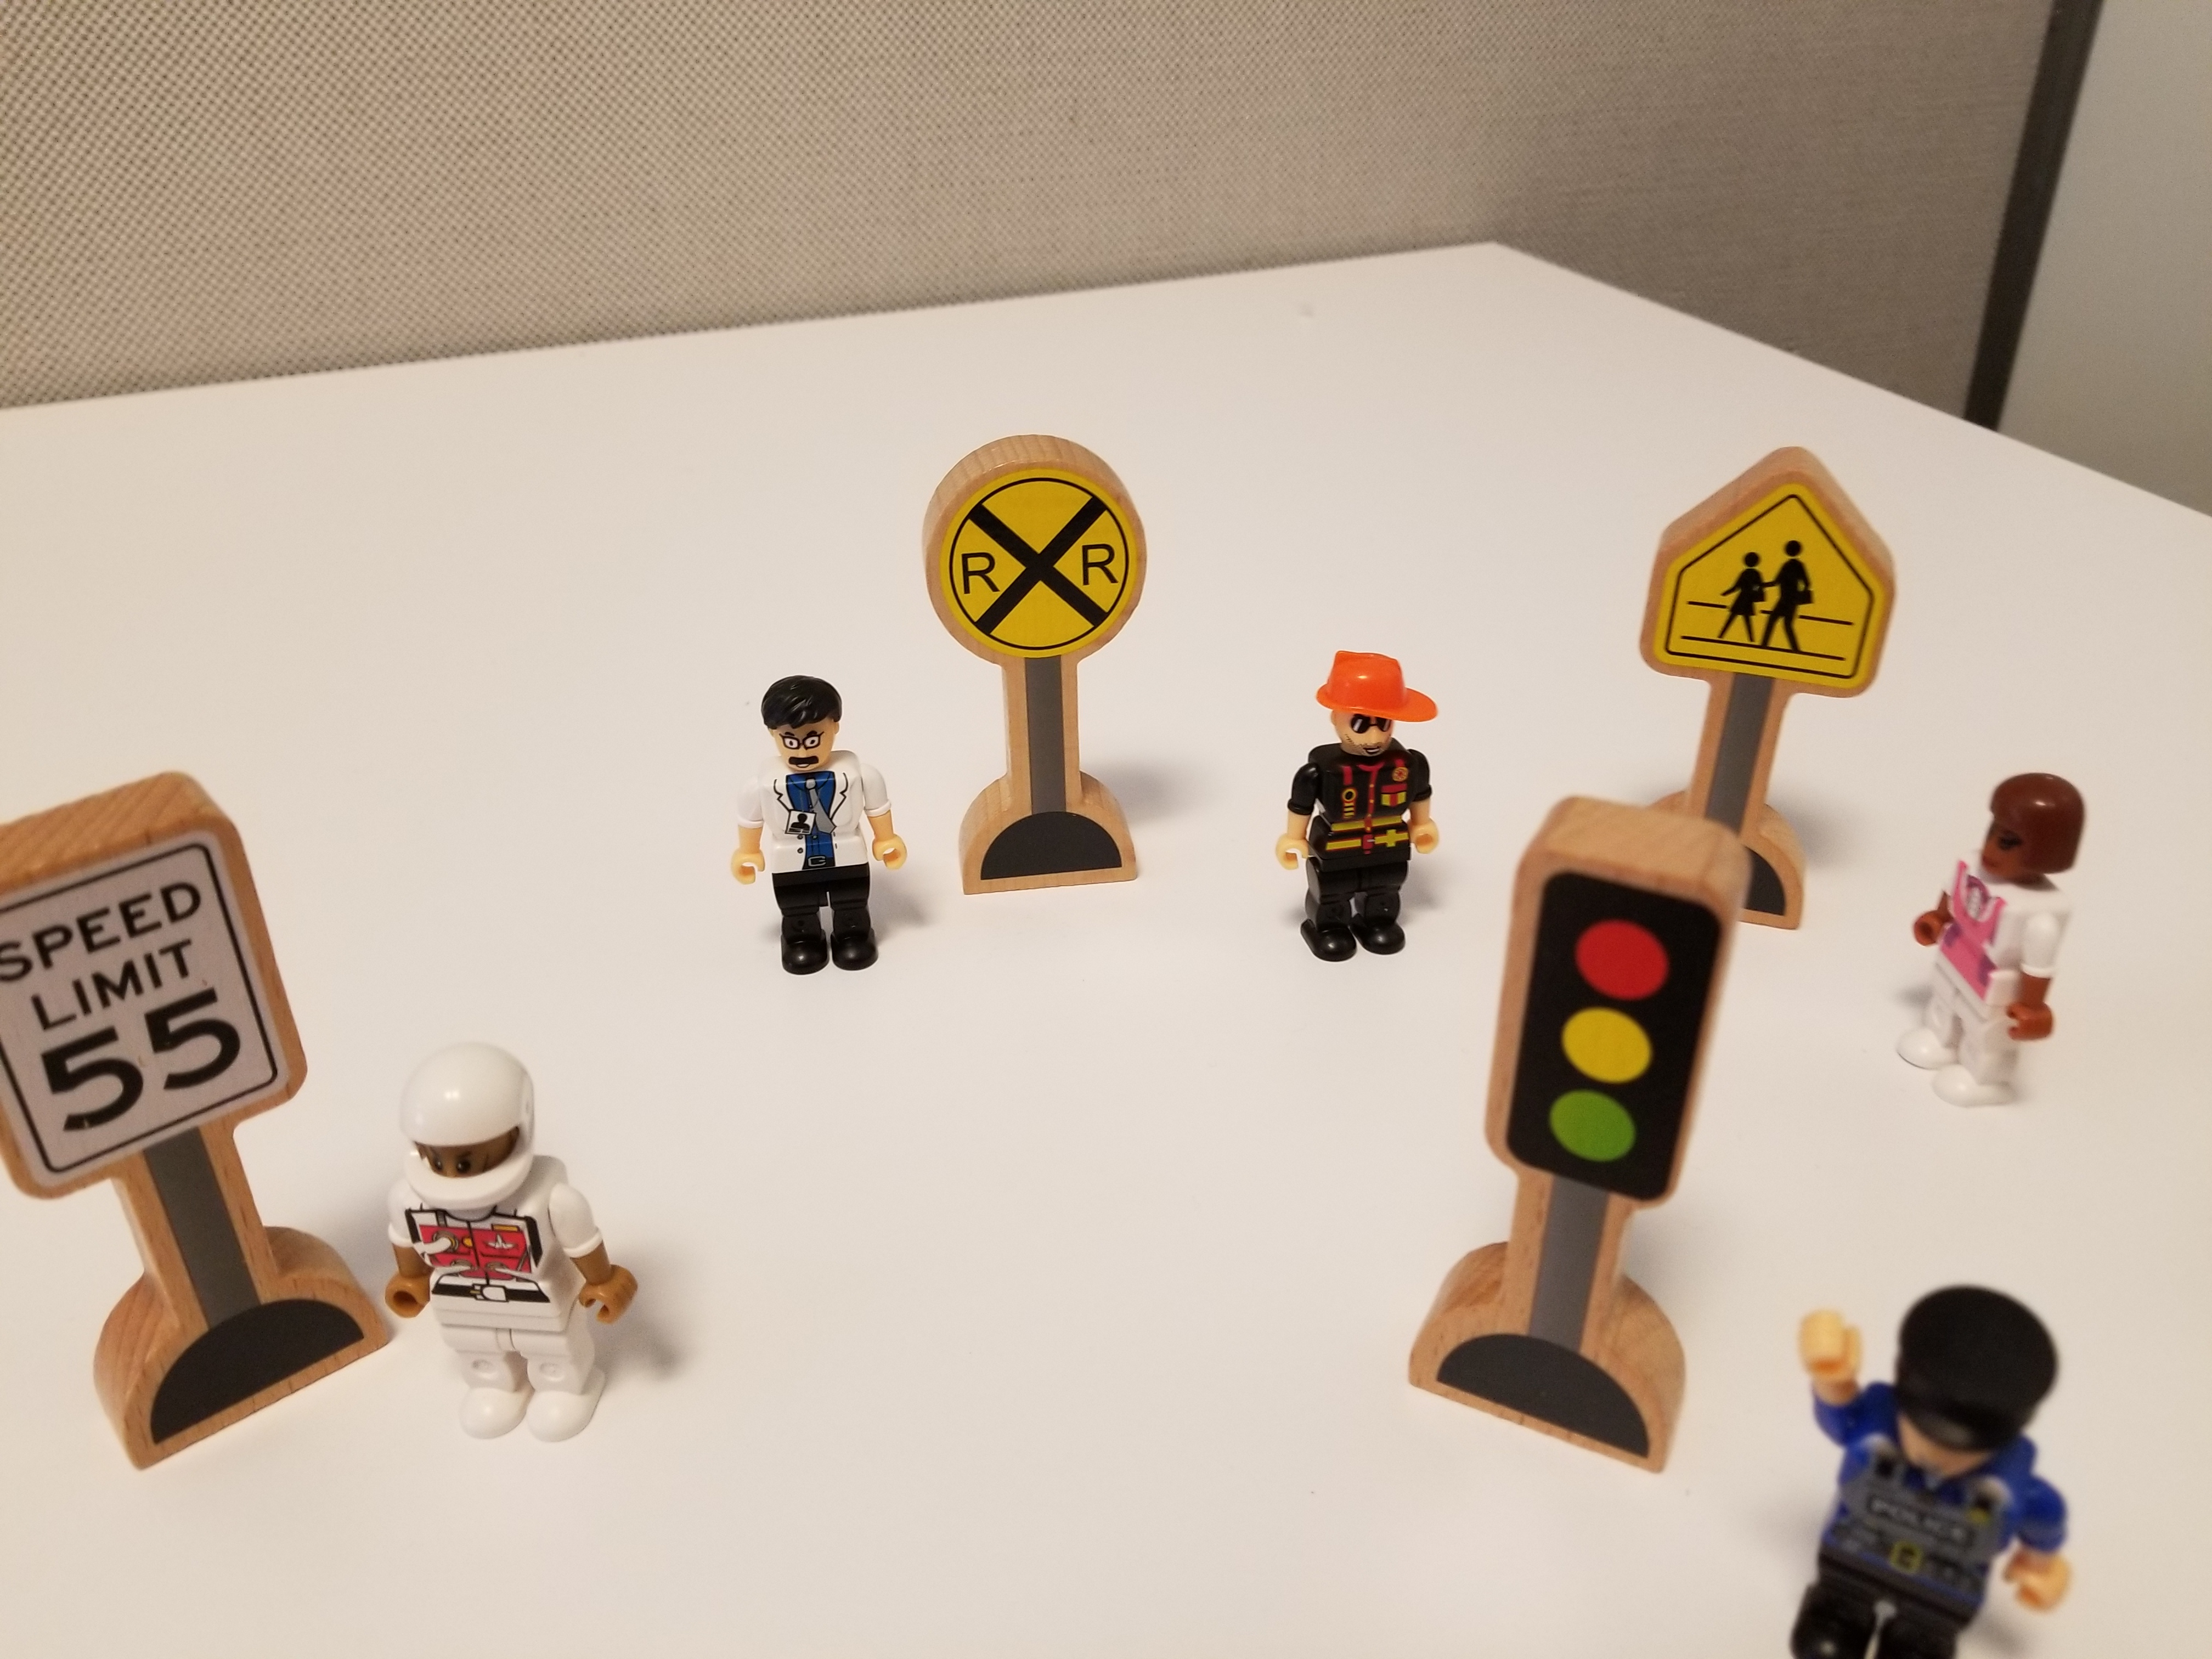Pedestrian crossing: (1649, 436, 1939, 692)
Railroad Crossing: (879, 440, 1193, 932)
Speed limit 55: (1, 801, 319, 1370)
Traffic Light: (1502, 793, 1741, 1436)
person: (368, 1050, 706, 1471), (1787, 1285, 2056, 1659), (1901, 756, 2110, 1155), (1261, 620, 1478, 986), (765, 666, 938, 1026)
